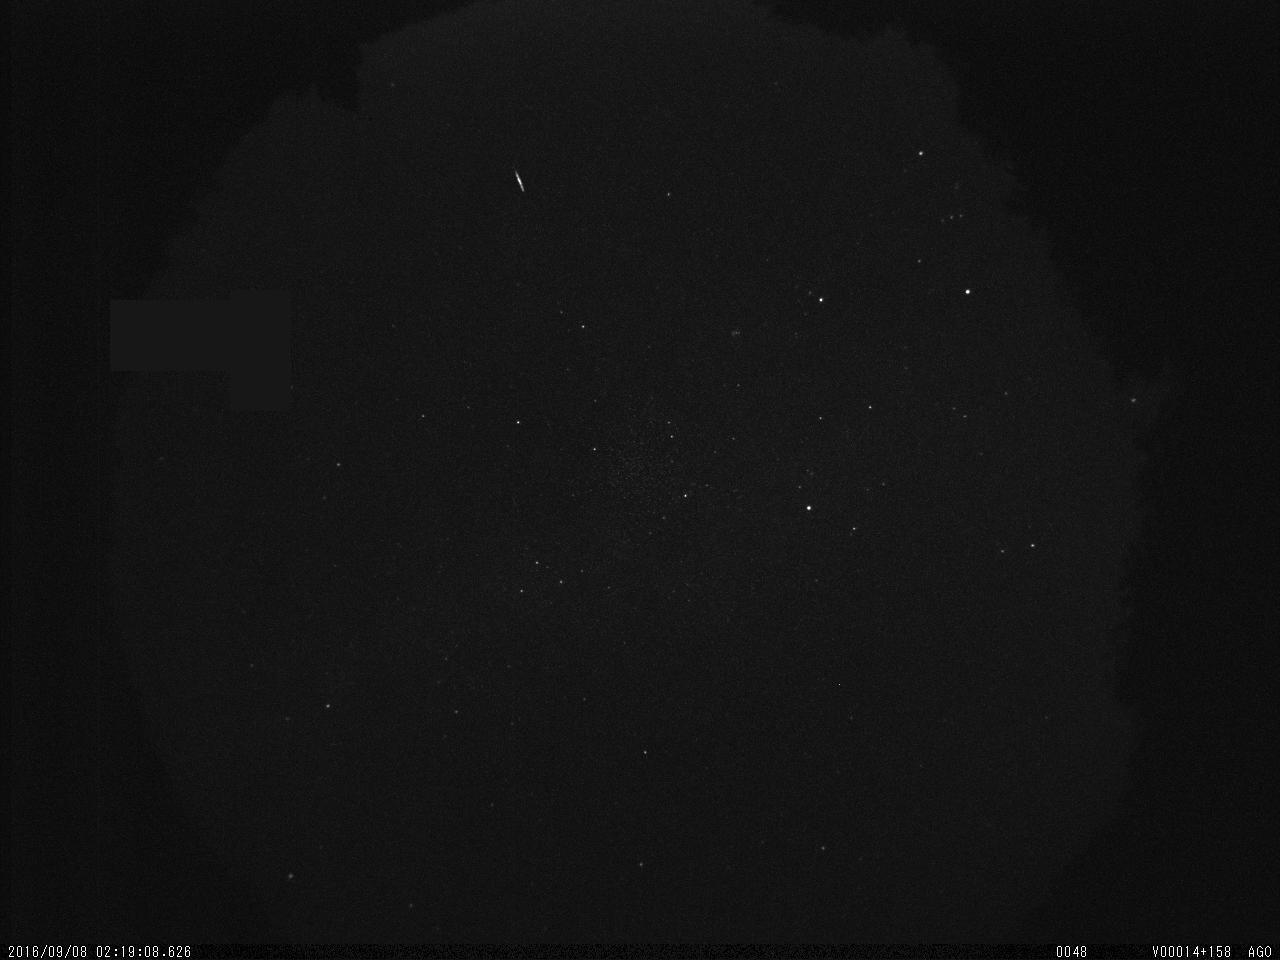meteor: (503, 165, 540, 201)
